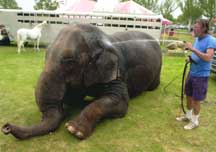elephant: (5, 21, 172, 150)
